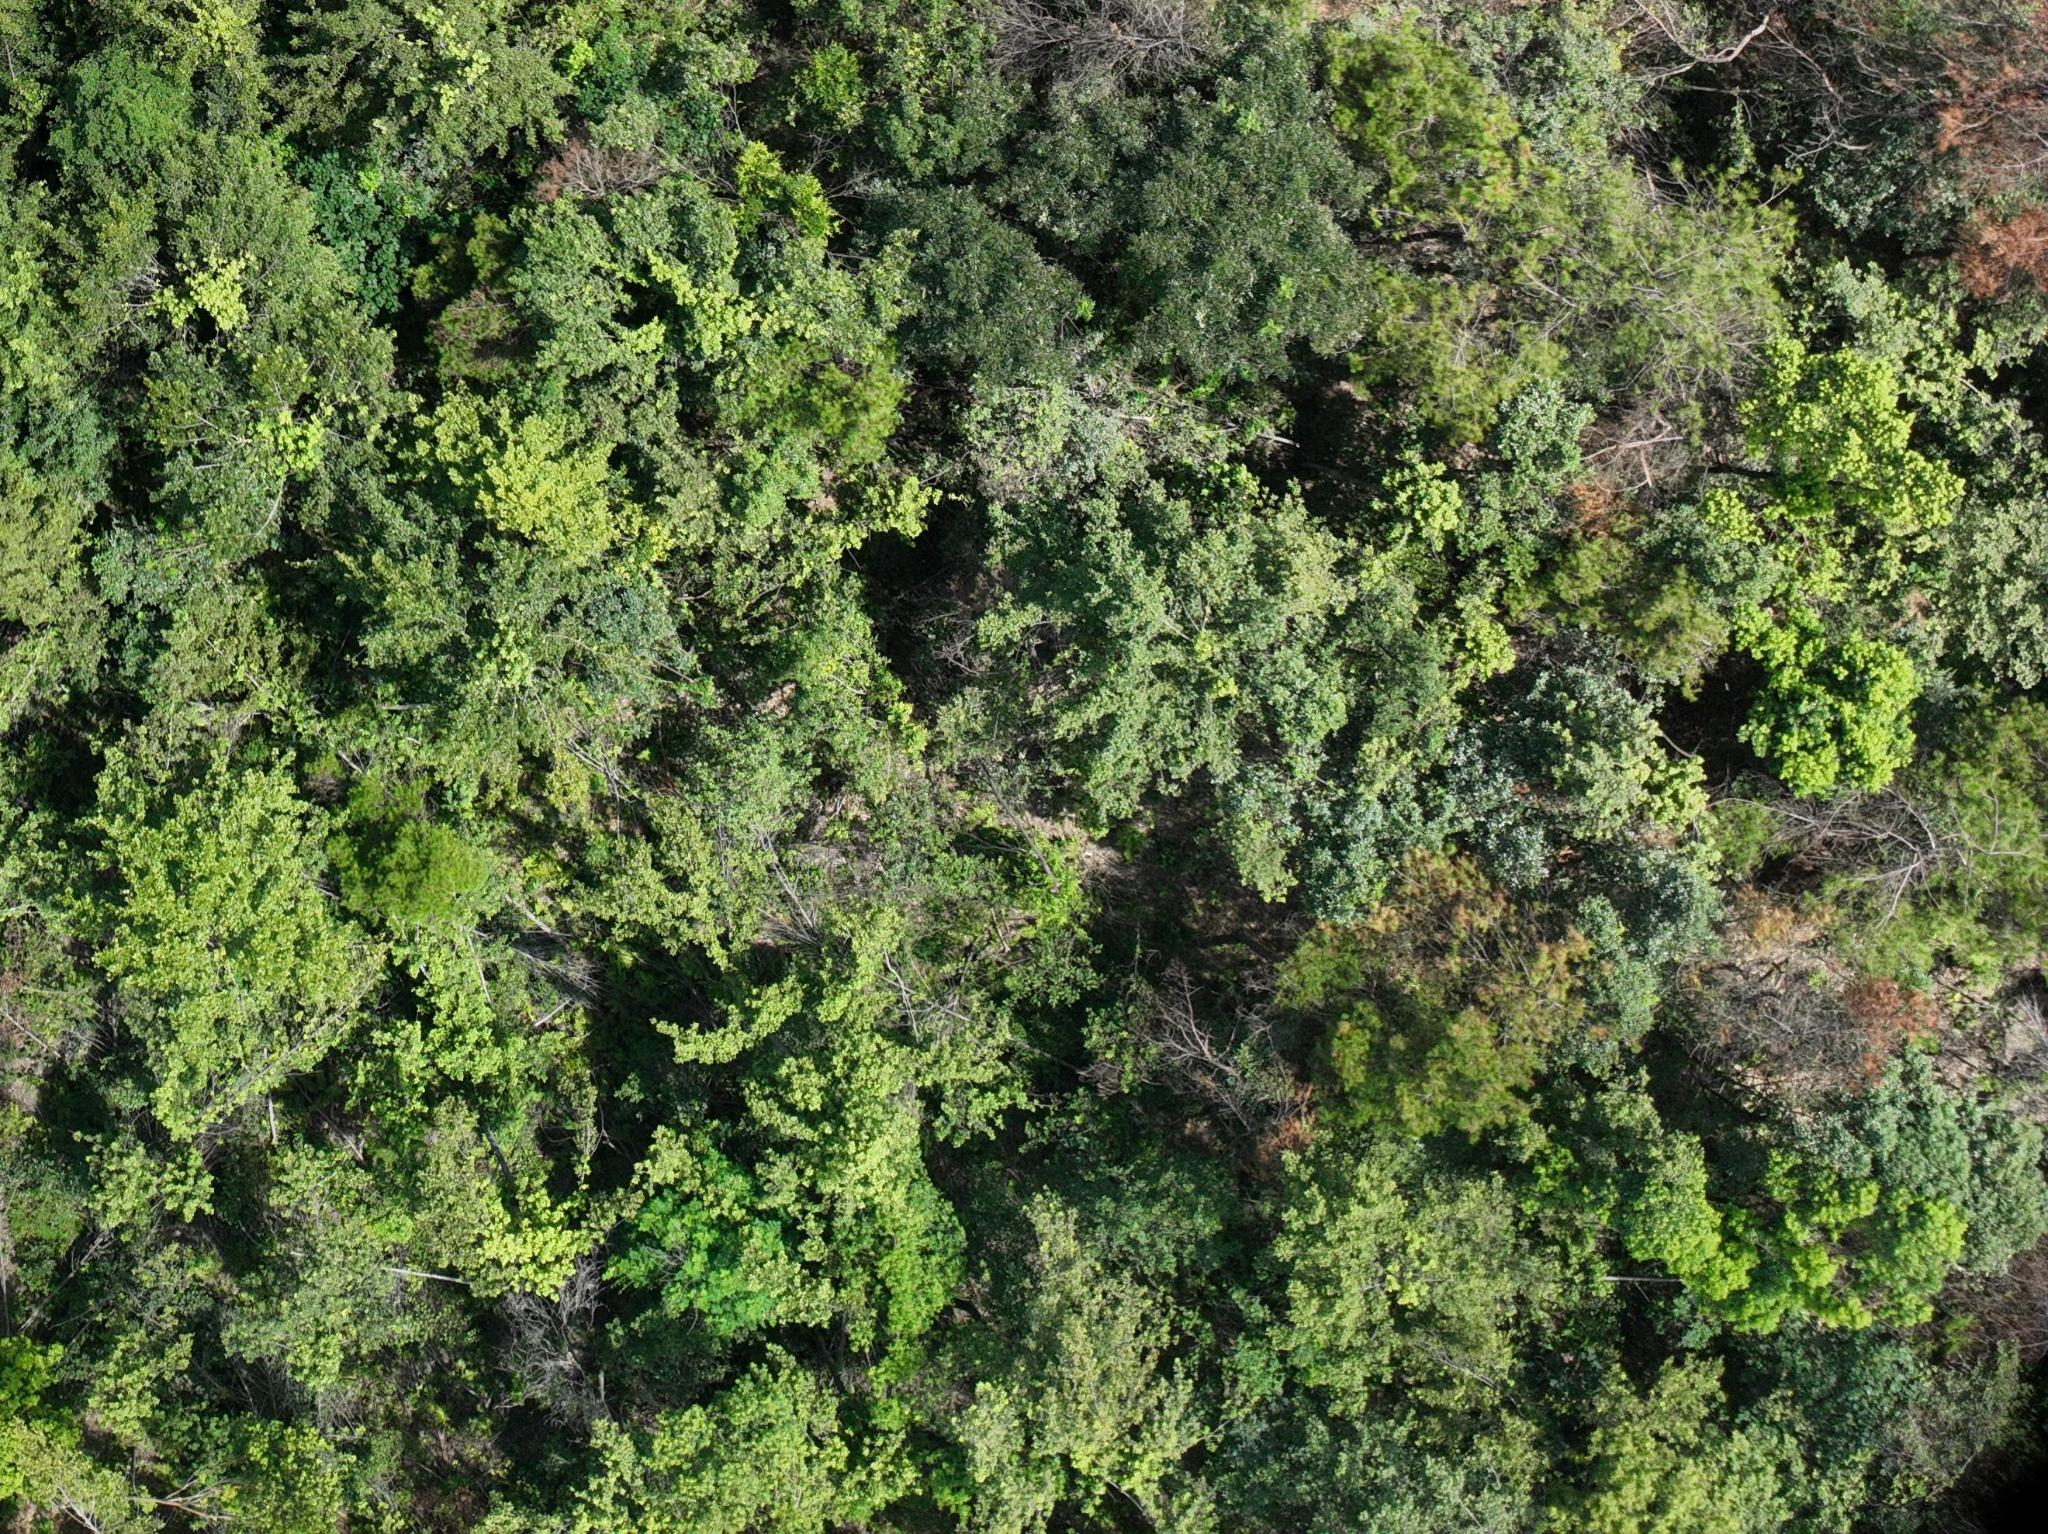heavy: (1723, 891, 1937, 1097), (1921, 76, 2037, 296)
light: (1362, 843, 1592, 1078)
